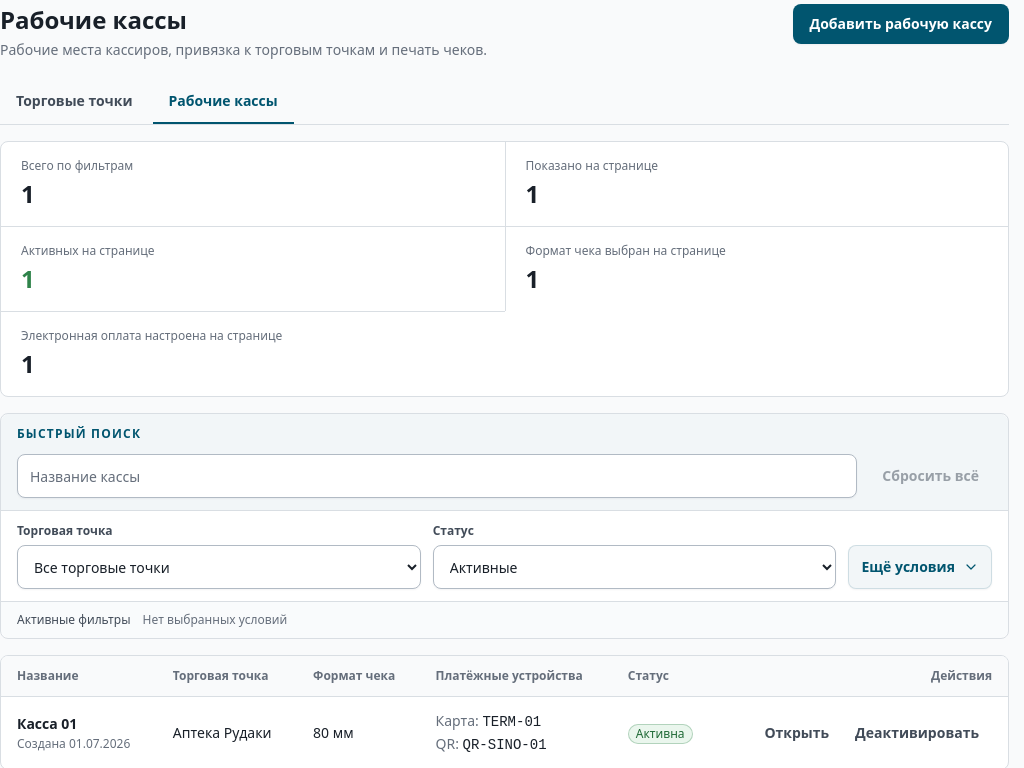
management list filters › warns before discarding a new register
Expected: the text "Касса 01" is shown, [17,714,77,733]
Click the button "Добавить рабочую кассу". click: {"x": 901, "y": 24}
box: [792,4,1009,44]
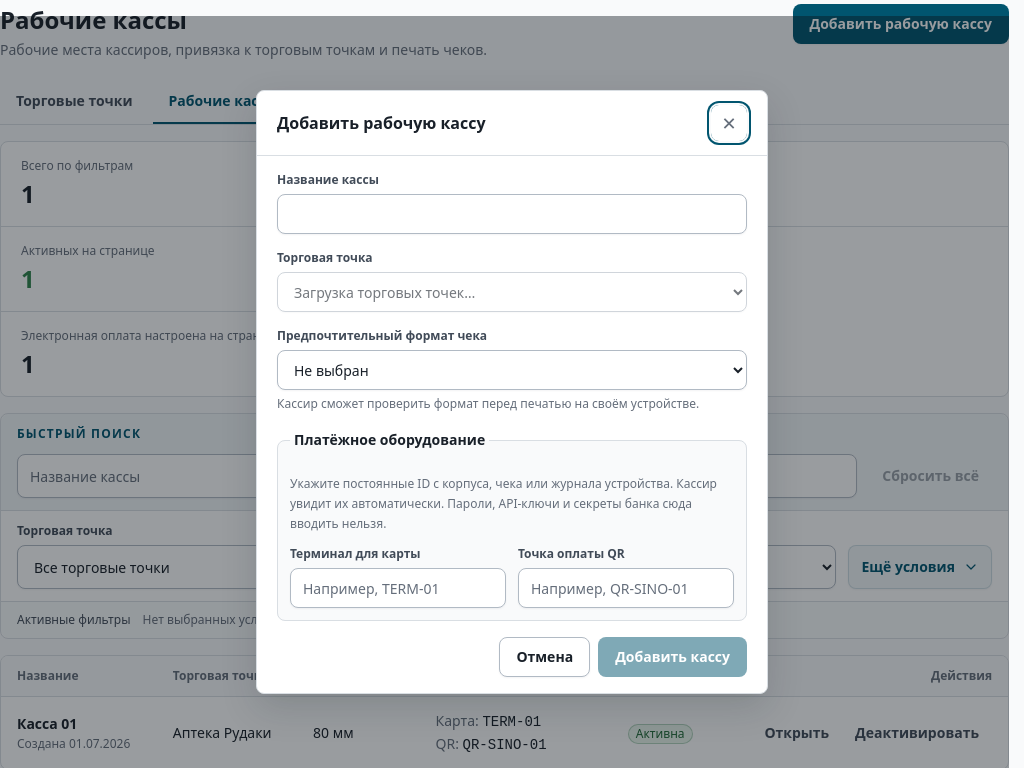
Type "Касса 02" into the field labelled "Название кассы". click: {"x": 512, "y": 214}
box: [277,194,747,234]
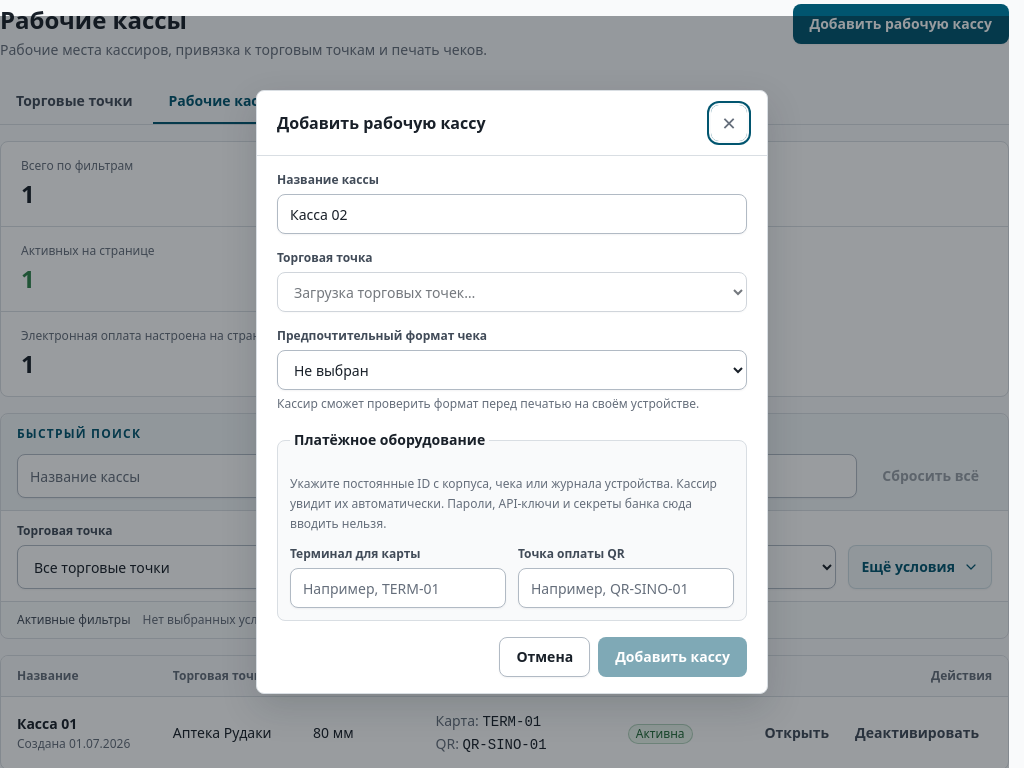
Click the button "Отмена". click: {"x": 545, "y": 657}
box: [499,637,590,677]
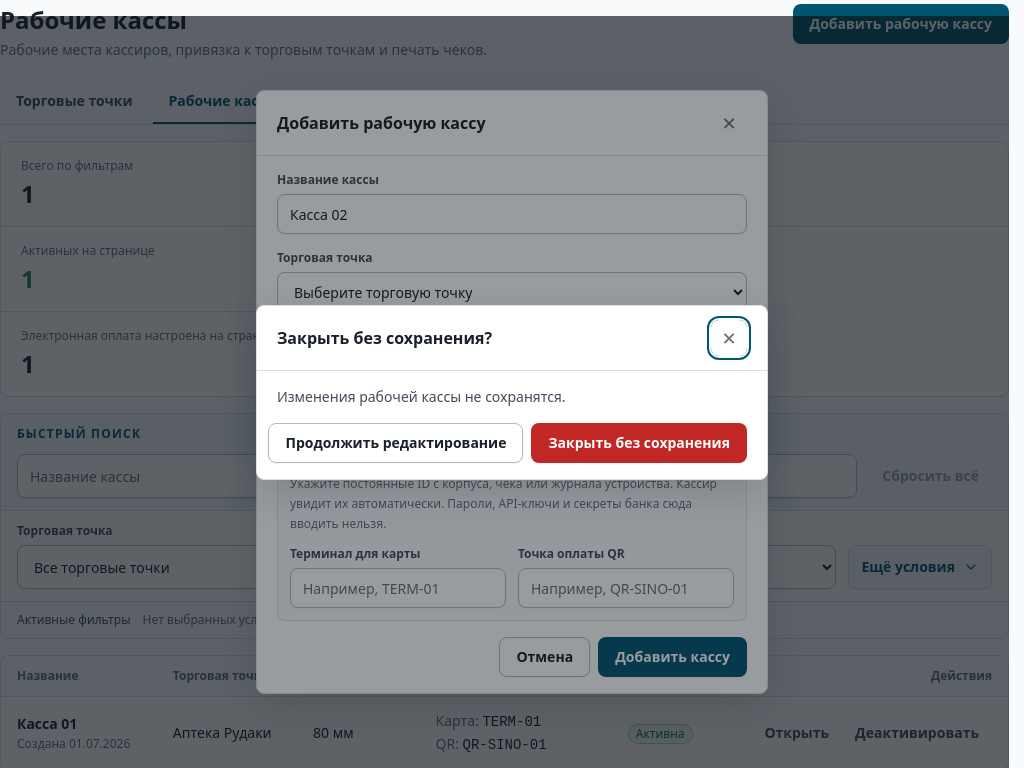
Now the dialog "Добавить рабочую кассу" is shown, box [256,90,768,694]
Now the dialog "Закрыть без сохранения?" is shown, box [256,304,768,480]
